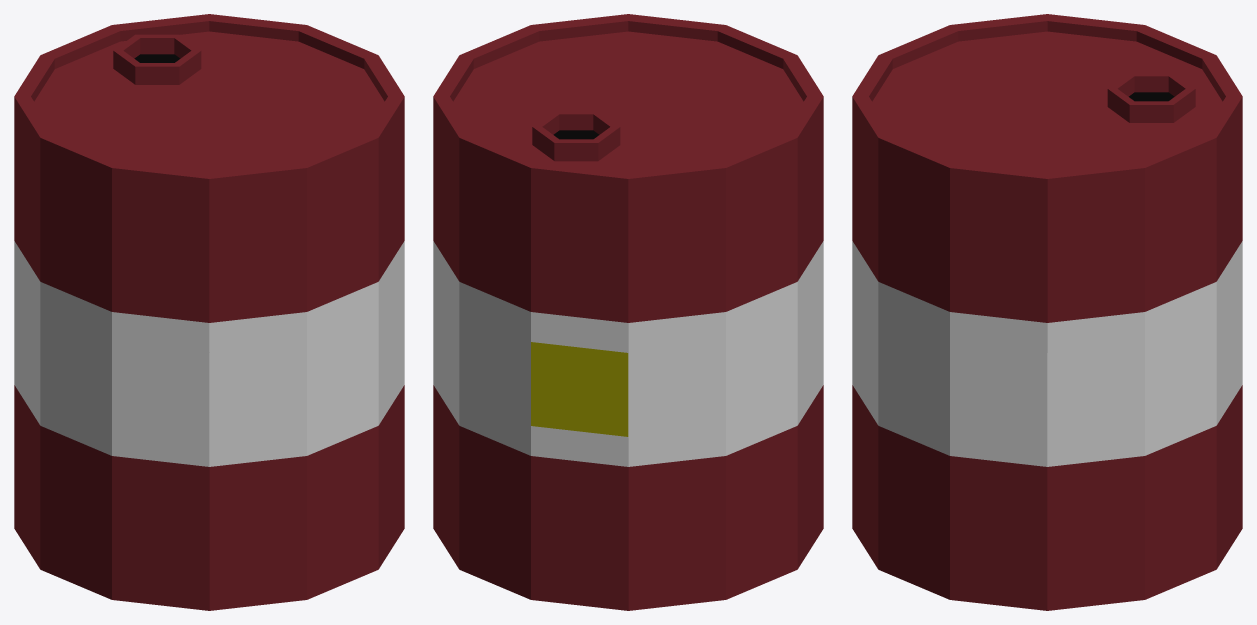
Rendered from oil_drum.fbx.
3 views of the same model, side by side, from view 1: azimuth 30°, elevation 25°; view 2: azimuth 150°, elevation 25°; view 3: azimuth 270°, elevation 25° (orthographic).
Parts seen in each view (by area): view 1: Cylinder; view 2: Cylinder; view 3: Cylinder.
Part boxes in pixels (x1=…): Cylinder: x1=14, y1=14, x2=404, y2=610; Cylinder: x1=433, y1=14, x2=823, y2=610; Cylinder: x1=852, y1=14, x2=1242, y2=610.
Size of the model in its own units: 200 by 248 by 200.
